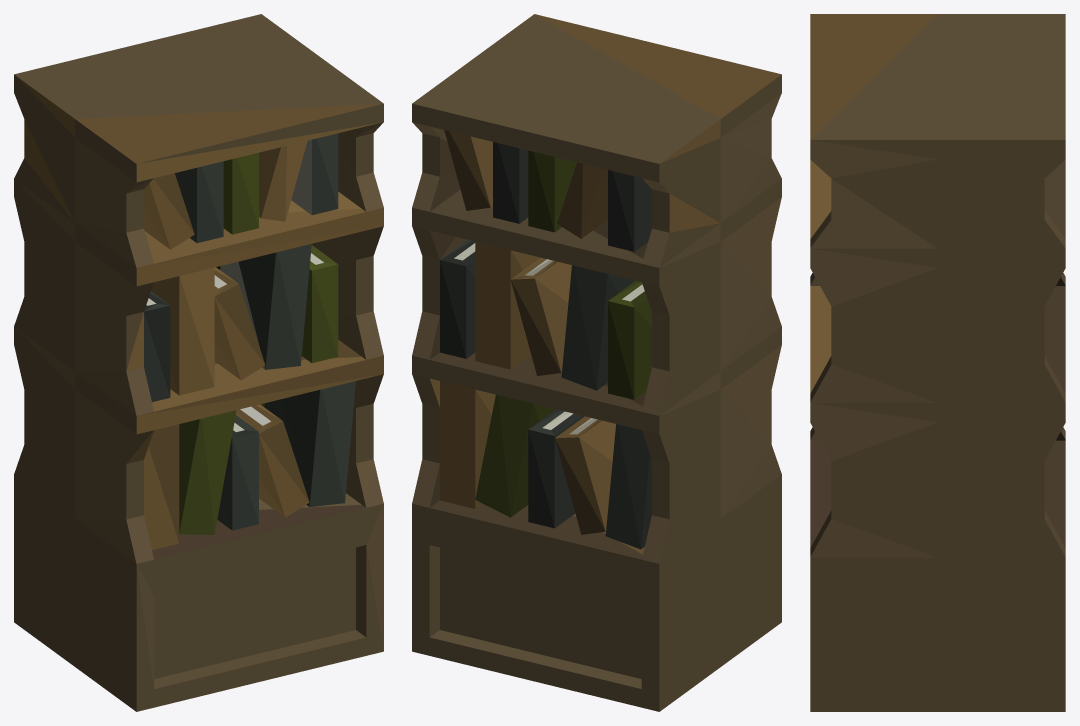
Rendered from old_bookshelf.obj.
3 renders of one model, left to right at view 1: azimuth 30°, elevation 25°; view 2: azimuth 150°, elevation 25°; view 3: azimuth 270°, elevation 25°, orthographic. The views are drawn at different scales.
Parts seen in each view (by area): view 1: Object Old Bookshelf 2026-09-13_16-23-50; view 2: Object Old Bookshelf 2026-09-13_16-23-50; view 3: Object Old Bookshelf 2026-09-13_16-23-50.
Part boxes in pixels (x1=…): Object Old Bookshelf 2026-09-13_16-23-50: x1=14, y1=14, x2=383, y2=711; Object Old Bookshelf 2026-09-13_16-23-50: x1=412, y1=14, x2=781, y2=711; Object Old Bookshelf 2026-09-13_16-23-50: x1=810, y1=14, x2=1065, y2=711.
Bounding box in the file's own units: 112 × 237 × 96.
